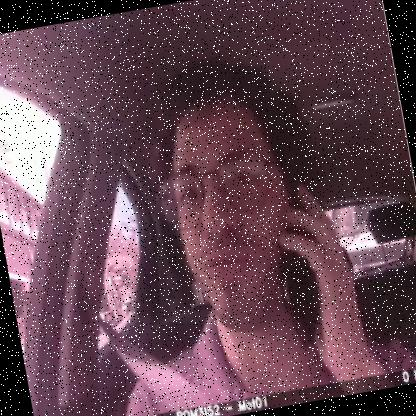phone: (261, 187, 347, 364)
